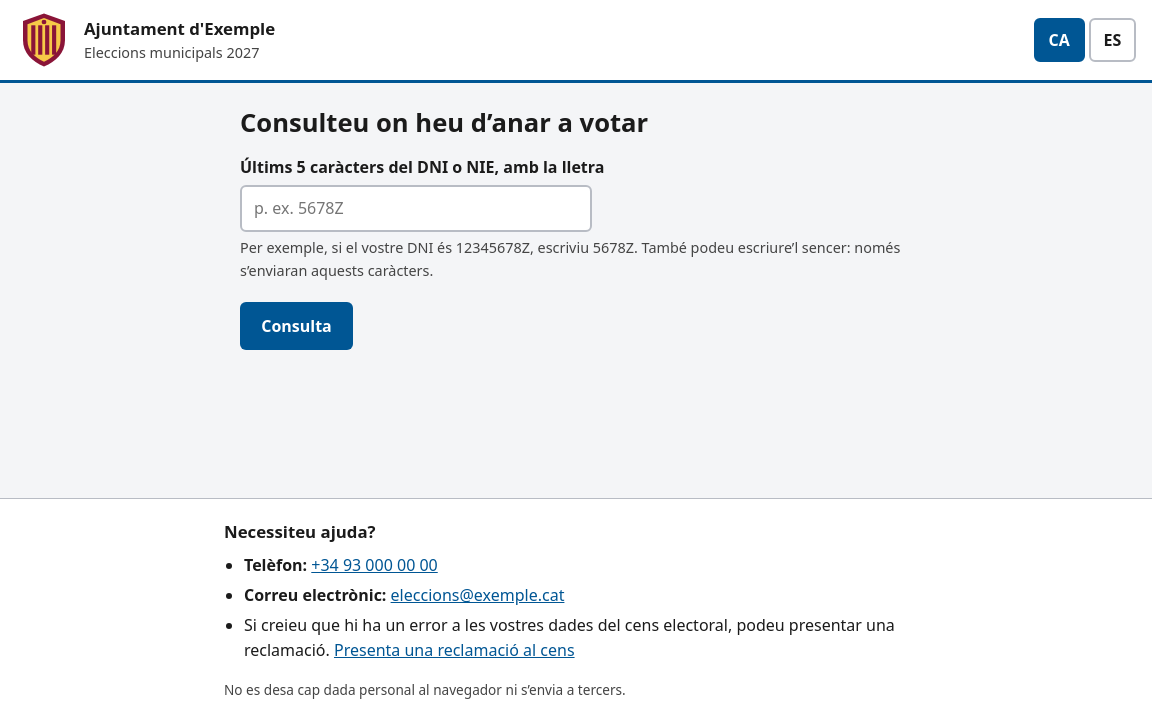
Test: idiomes configurables › l’electionName per idioma canvia en canviar d’idioma
Expected: the text "Eleccions municipals 2027" is shown, [84,42,275,64]
Expected: the text "Elecciones municipales 2027" is not shown
Click the button named "castellano".
click(1112, 40)  # box [1089,18,1136,62]
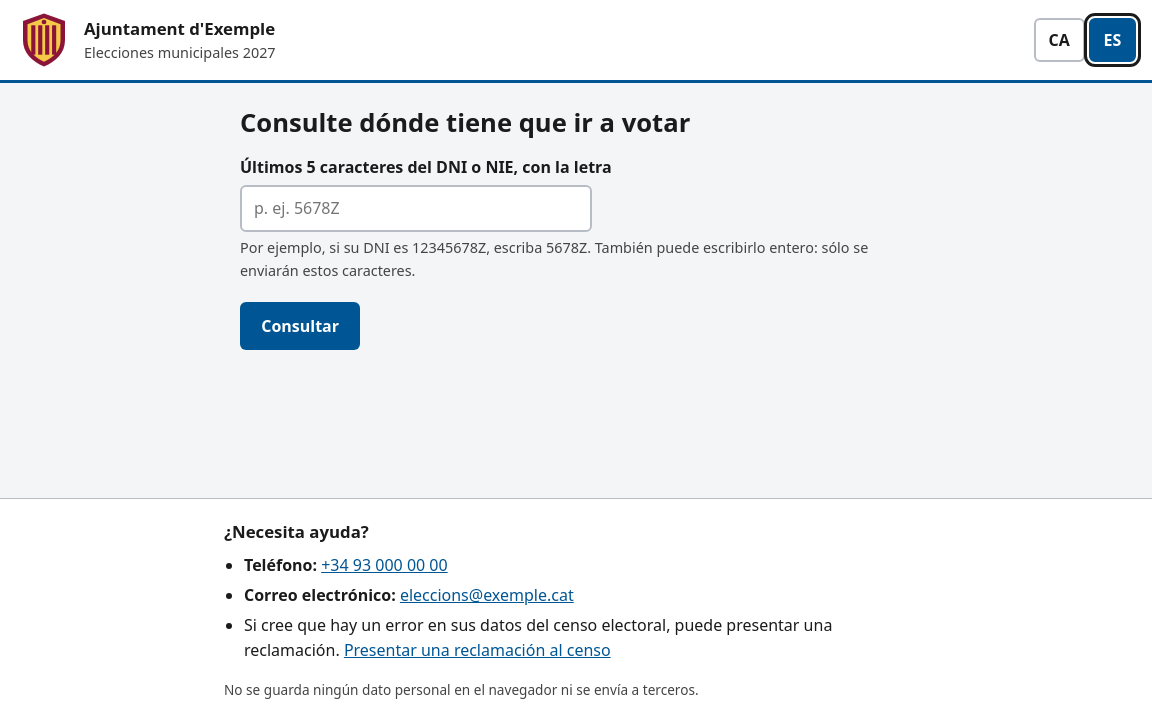
Now the text "Elecciones municipales 2027" is shown, box [84,42,276,64]
Now the text "Eleccions municipals 2027" is gone
